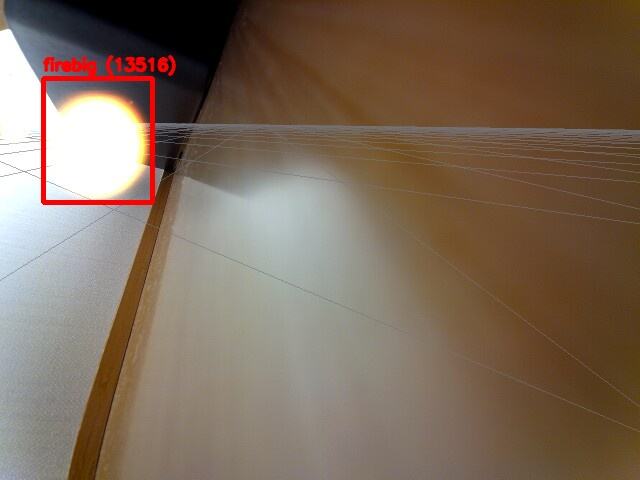firebig: (43, 78, 152, 202)
